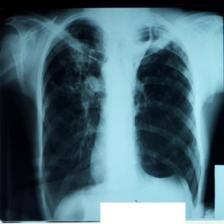tuberculosis: (35, 14, 205, 217)
